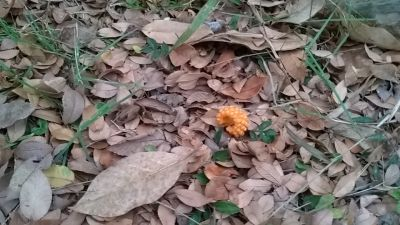eggs: (216, 105, 249, 136)
